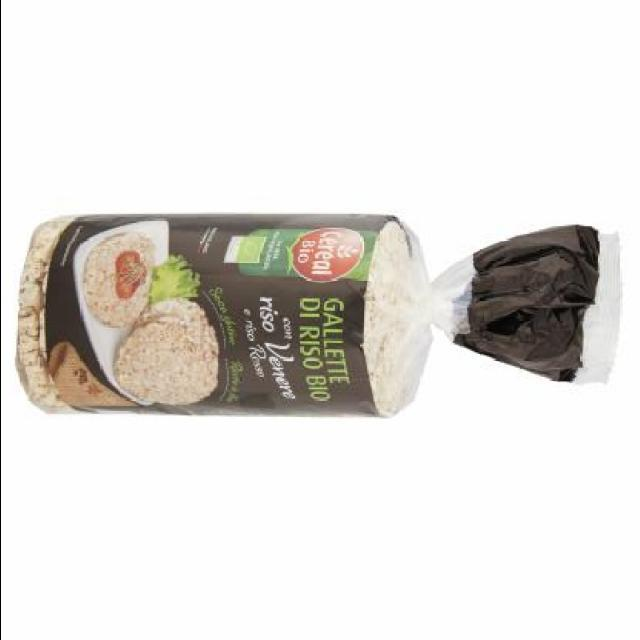Gallette di riso: (19, 212, 626, 420)
